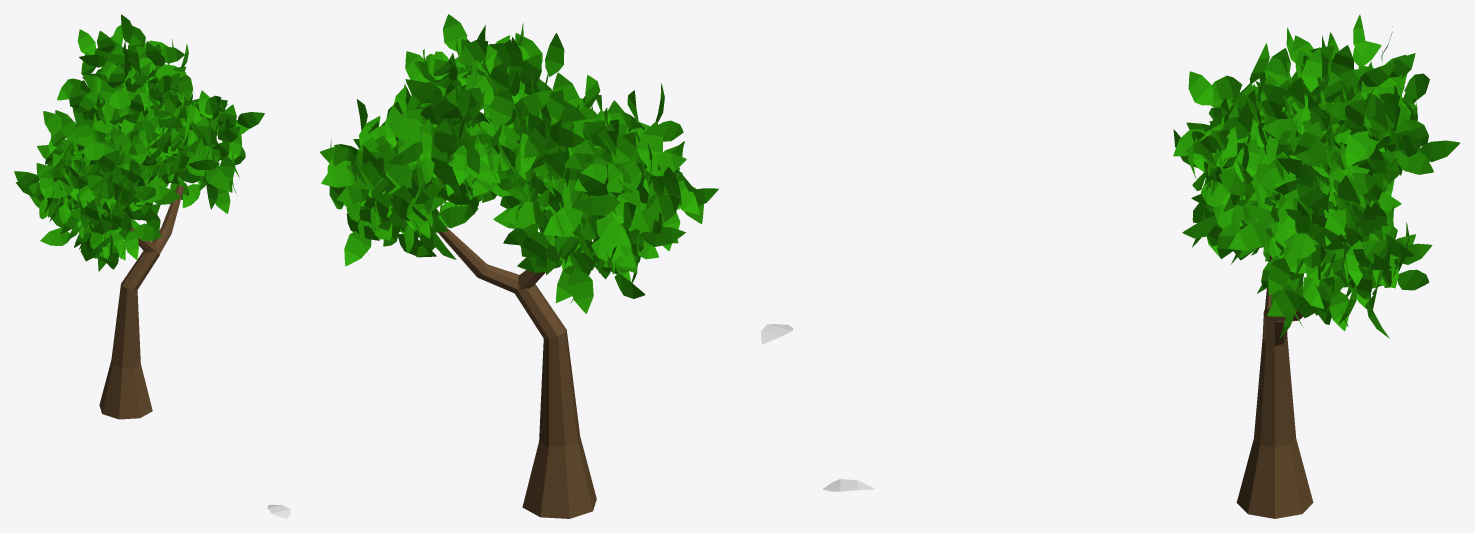
The model's file is tree.fbx.
The picture shows the model from 3 angles, left to right: view 1: azimuth 30°, elevation 25°; view 2: azimuth 150°, elevation 25°; view 3: azimuth 270°, elevation 25°; orthographic projection. The views are drawn at different scales.
Visible parts, largest first — view 1: Icosphere.001, Cube; view 2: Icosphere.001, Cube; view 3: Icosphere.001, Cube.
Boxes of the visible parts, x1=… form: Icosphere.001: x1=14, y1=14, x2=264, y2=271; Cube: x1=99, y1=185, x2=183, y2=419; Icosphere.001: x1=320, y1=14, x2=718, y2=313; Cube: x1=438, y1=227, x2=596, y2=518; Icosphere.001: x1=1173, y1=14, x2=1460, y2=339; Cube: x1=1236, y1=255, x2=1313, y2=518.
Bounding box in the file's own units: 598 × 829 × 976.
